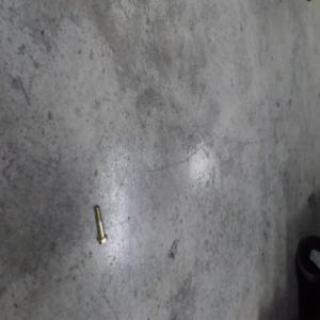Bolttrack_idkeyframe: (92, 204, 108, 246)
